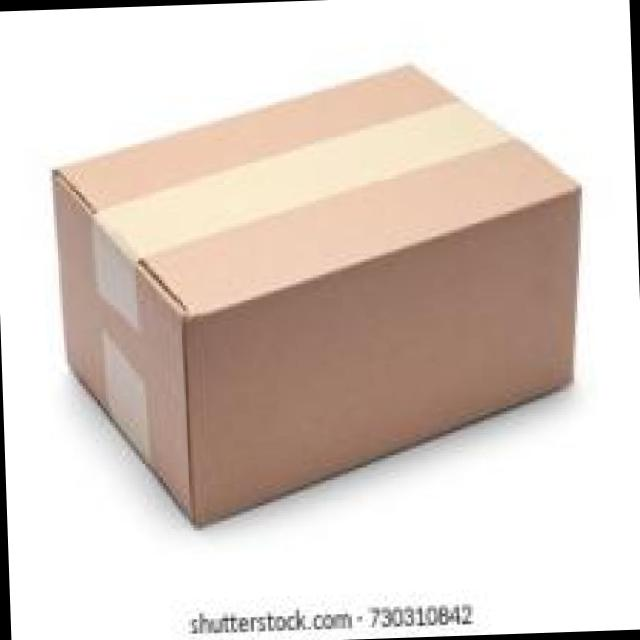box: (46, 63, 584, 532)
